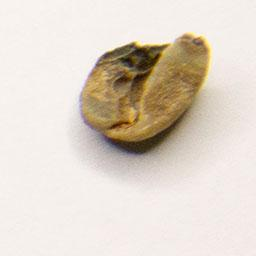defect: (71, 27, 215, 148)
